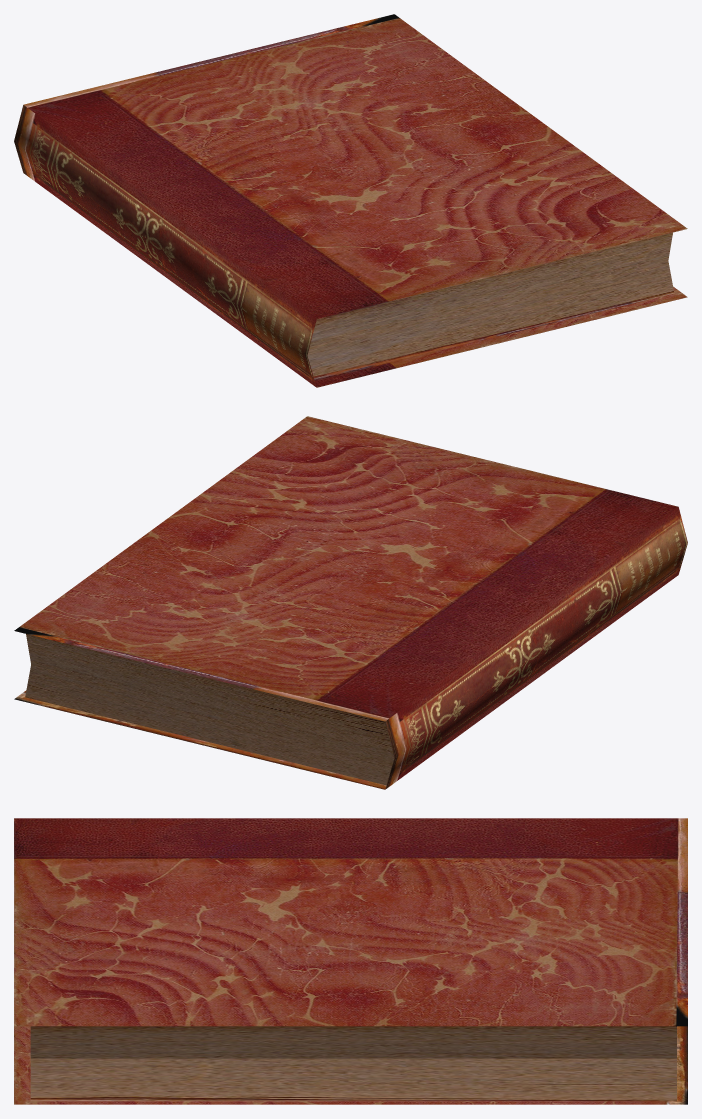
File: Book4.fbx
3 renders of one model, top to bottom at view 1: azimuth 30°, elevation 25°; view 2: azimuth 150°, elevation 25°; view 3: azimuth 270°, elevation 25°, orthographic. The views are drawn at different scales.
Parts seen in each view (by area): view 1: Cube; view 2: Cube; view 3: Cube.
Part boxes in pixels (left/top/right/bottom): Cube: left=14, top=14, right=687, bottom=387; Cube: left=14, top=416, right=687, bottom=789; Cube: left=14, top=818, right=687, bottom=1104.
Bounding box in the file's own units: 209 × 35.78 × 279.
